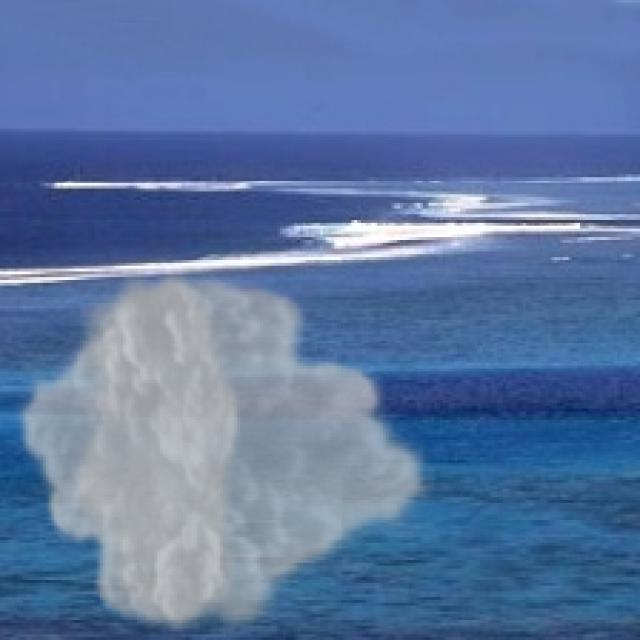smoke: (14, 263, 437, 637)
